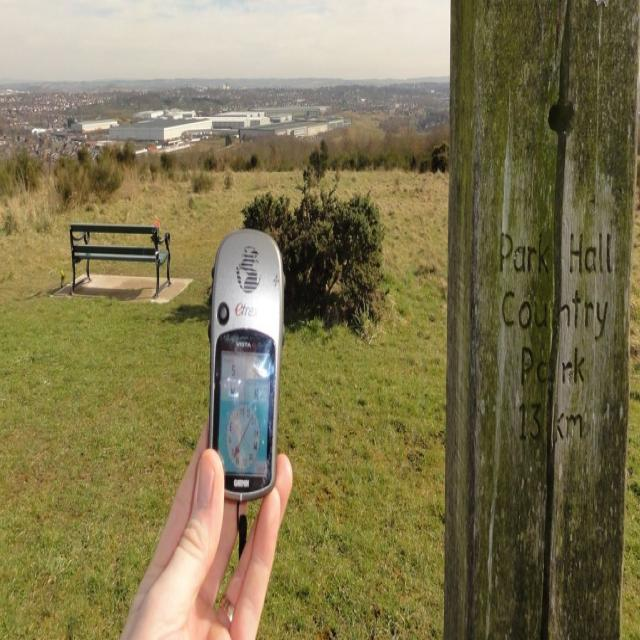Mobile-phone: (208, 224, 290, 503)
